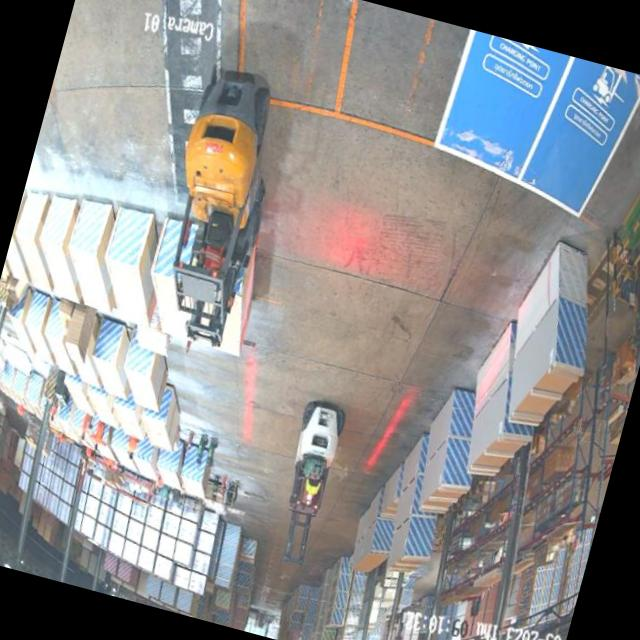driver: (193, 228, 230, 278), (296, 473, 325, 508)
forklift: (123, 46, 320, 368), (256, 386, 365, 578)
person: (87, 419, 110, 454), (122, 436, 140, 464), (76, 413, 92, 442)
